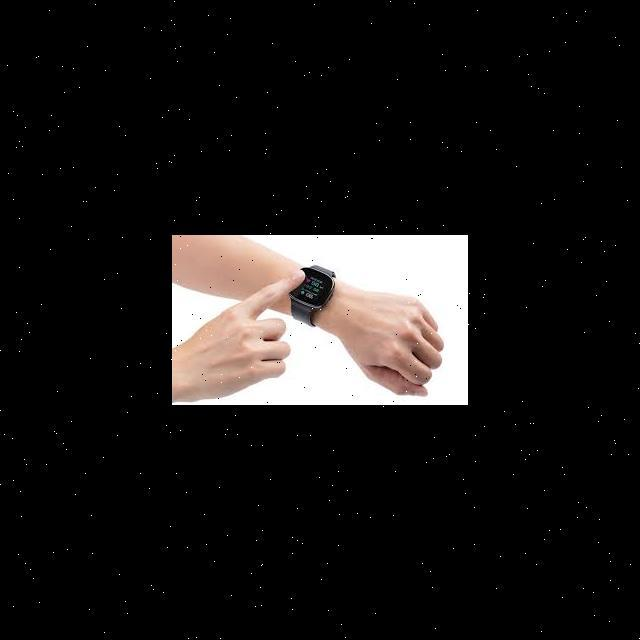watch: (272, 250, 363, 355)
